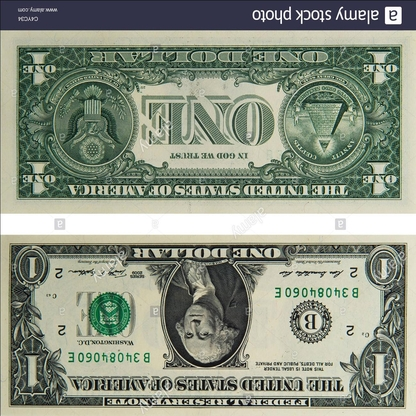one-back: (1, 34, 409, 210)
one-front: (1, 233, 413, 415)
